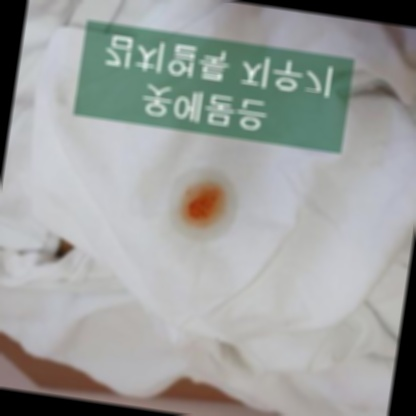kimchi: (168, 173, 229, 239)
